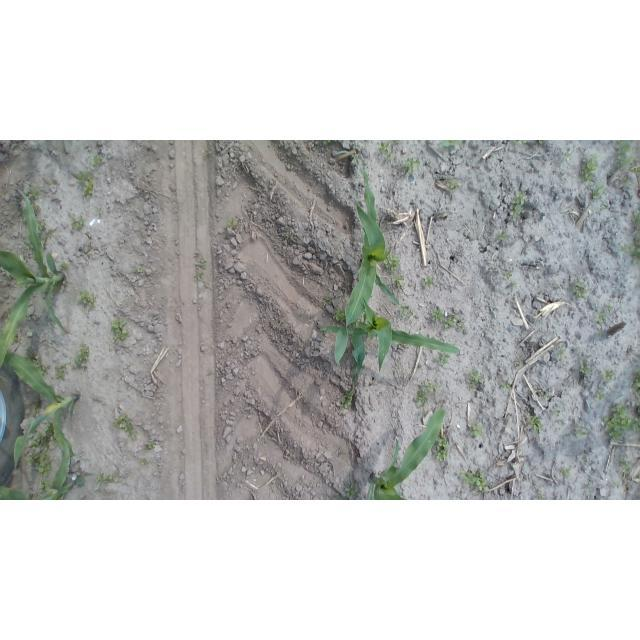Maize: (320, 295, 463, 406), (335, 150, 404, 365), (1, 191, 70, 368), (1, 354, 92, 475), (364, 409, 446, 500), (1, 428, 86, 501)
Weeds: (24, 423, 56, 476), (603, 404, 640, 445), (415, 380, 442, 417), (432, 306, 467, 331), (112, 413, 142, 441), (617, 140, 640, 176), (457, 469, 491, 493), (509, 189, 528, 222), (77, 168, 96, 200), (580, 154, 599, 183), (109, 318, 131, 342), (622, 237, 640, 266), (378, 140, 401, 160), (77, 290, 98, 311), (400, 157, 420, 178), (195, 252, 207, 286), (74, 345, 90, 368), (594, 306, 614, 324), (468, 369, 485, 390), (572, 278, 589, 299), (435, 438, 449, 462), (383, 255, 401, 273), (345, 481, 361, 500), (526, 413, 542, 432), (468, 423, 485, 440), (631, 371, 640, 403), (94, 473, 120, 484), (617, 458, 631, 478), (578, 358, 590, 381), (71, 213, 85, 232), (339, 393, 353, 412), (446, 176, 462, 192), (435, 352, 451, 368), (24, 347, 40, 363), (591, 183, 606, 199), (42, 226, 57, 242), (24, 187, 40, 202), (90, 153, 105, 167), (421, 276, 435, 291), (392, 274, 406, 288), (55, 364, 68, 379), (39, 478, 53, 491), (575, 427, 589, 440), (334, 307, 346, 322), (441, 140, 463, 148), (554, 348, 566, 361), (400, 303, 411, 317), (144, 441, 158, 452), (631, 210, 640, 226), (535, 489, 548, 500), (501, 381, 514, 392), (603, 369, 614, 382), (497, 230, 508, 242), (226, 217, 236, 230), (595, 390, 606, 401), (39, 364, 49, 376), (585, 482, 594, 495), (38, 220, 47, 233), (23, 241, 33, 252), (561, 466, 571, 477), (597, 324, 606, 336), (202, 149, 212, 159), (60, 261, 70, 271), (285, 231, 294, 242), (323, 294, 332, 305), (33, 404, 41, 416), (10, 333, 19, 343), (439, 211, 449, 220), (502, 272, 512, 281), (140, 458, 150, 467), (544, 392, 552, 402), (516, 141, 532, 146), (514, 361, 524, 369), (134, 266, 144, 274), (599, 202, 608, 210), (612, 481, 621, 489), (564, 151, 573, 159), (454, 492, 463, 500), (338, 446, 344, 457), (552, 410, 560, 418), (577, 346, 584, 354), (322, 141, 333, 146), (95, 206, 102, 213), (511, 282, 518, 289), (598, 484, 606, 490), (556, 420, 563, 426), (539, 141, 544, 146), (312, 148, 317, 152), (246, 445, 251, 449)
